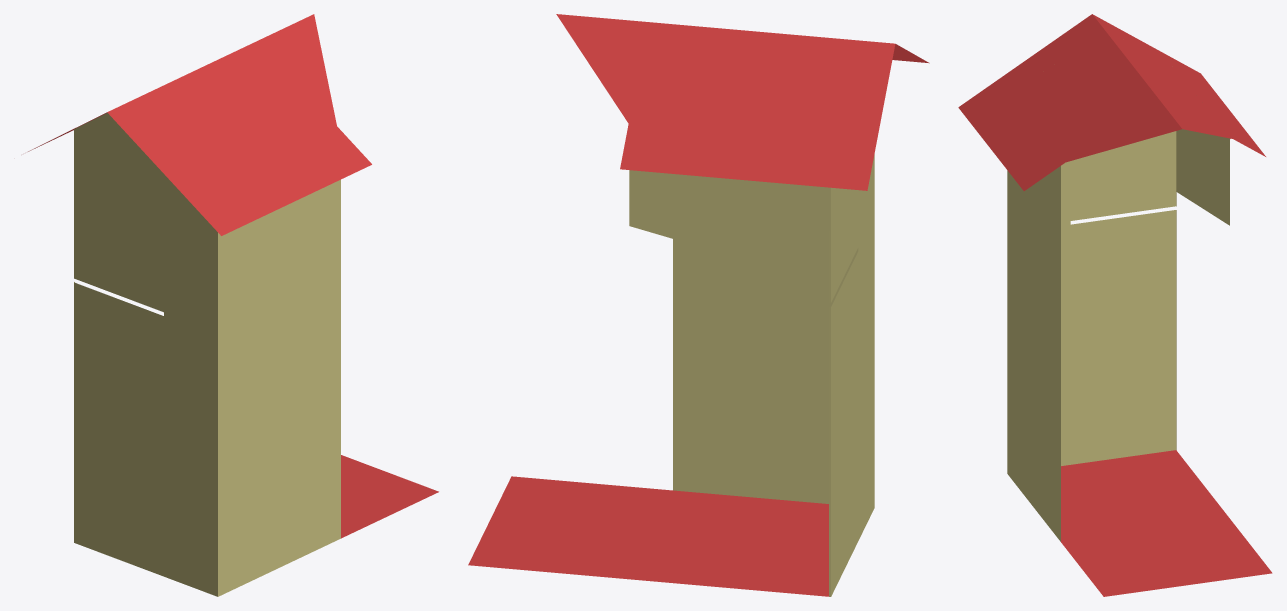
The picture shows the model from 3 angles, left to right: view 1: azimuth 30°, elevation 25°; view 2: azimuth 150°, elevation 25°; view 3: azimuth 270°, elevation 25°; orthographic projection. The views are drawn at different scales.
Size of the model in its own units: 10.22 by 8.1 by 12.24.
